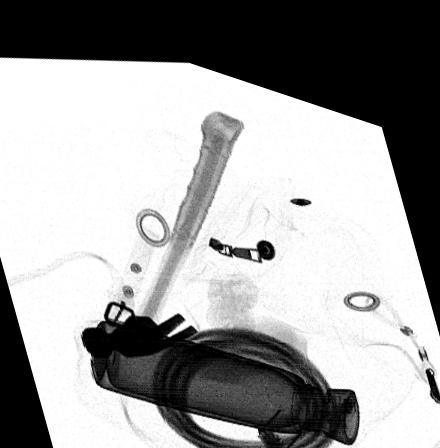Hammer: (81, 95, 246, 352)
